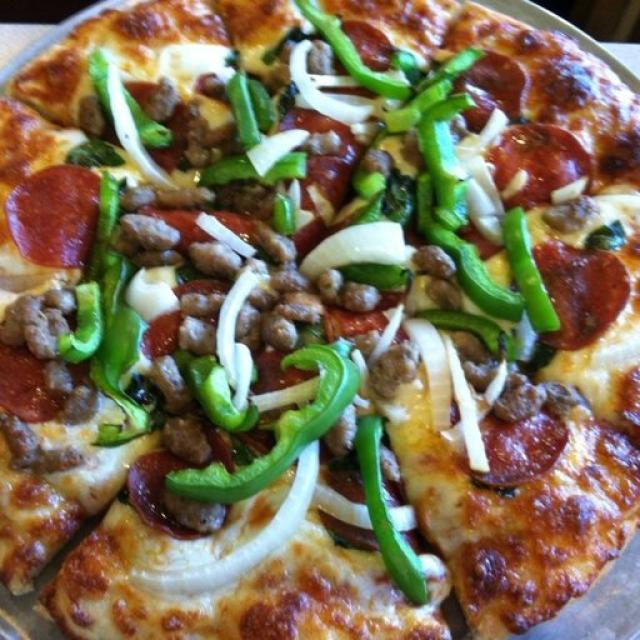Beef: (468, 363, 585, 409), (257, 272, 327, 340), (0, 287, 74, 349), (373, 343, 416, 399), (182, 297, 219, 348), (156, 359, 185, 412)
Green Pepper: (70, 180, 141, 450), (87, 179, 143, 435), (360, 416, 435, 606), (396, 81, 465, 237), (210, 76, 306, 184), (160, 434, 301, 505), (302, 2, 404, 98), (502, 214, 559, 332), (96, 53, 167, 146), (284, 343, 354, 437), (429, 230, 501, 320), (196, 362, 257, 429), (72, 286, 103, 358), (349, 264, 413, 286), (362, 172, 382, 217)
Onions: (406, 317, 486, 470), (237, 446, 325, 570), (107, 58, 171, 186), (295, 50, 369, 120), (307, 224, 415, 267), (225, 261, 254, 402), (462, 133, 497, 227), (136, 567, 244, 597), (128, 267, 176, 315), (316, 486, 363, 530), (253, 131, 308, 168)
Pepperoni: (522, 246, 630, 350), (485, 404, 571, 496), (493, 128, 591, 204), (13, 168, 95, 258), (0, 346, 67, 423), (452, 54, 522, 123), (293, 120, 348, 206), (333, 14, 392, 70), (162, 210, 252, 238), (128, 454, 161, 522), (328, 312, 392, 335), (140, 314, 172, 356)
Pizza: (0, 0, 640, 640)
